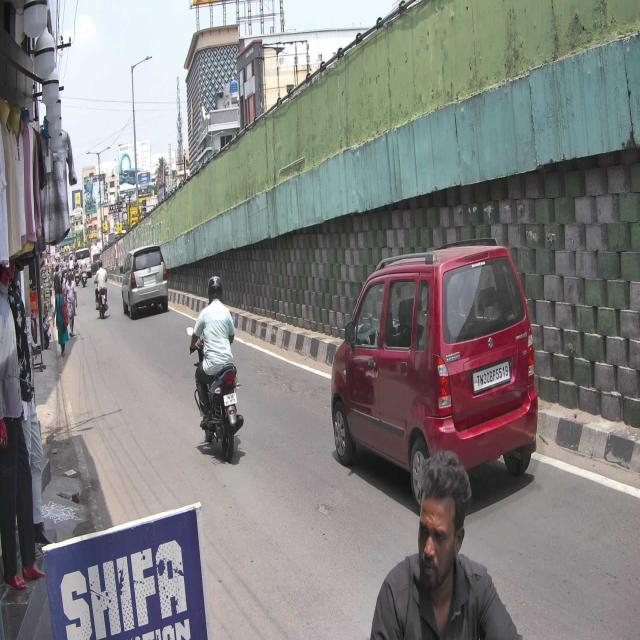single_rider: (186, 273, 248, 465)
